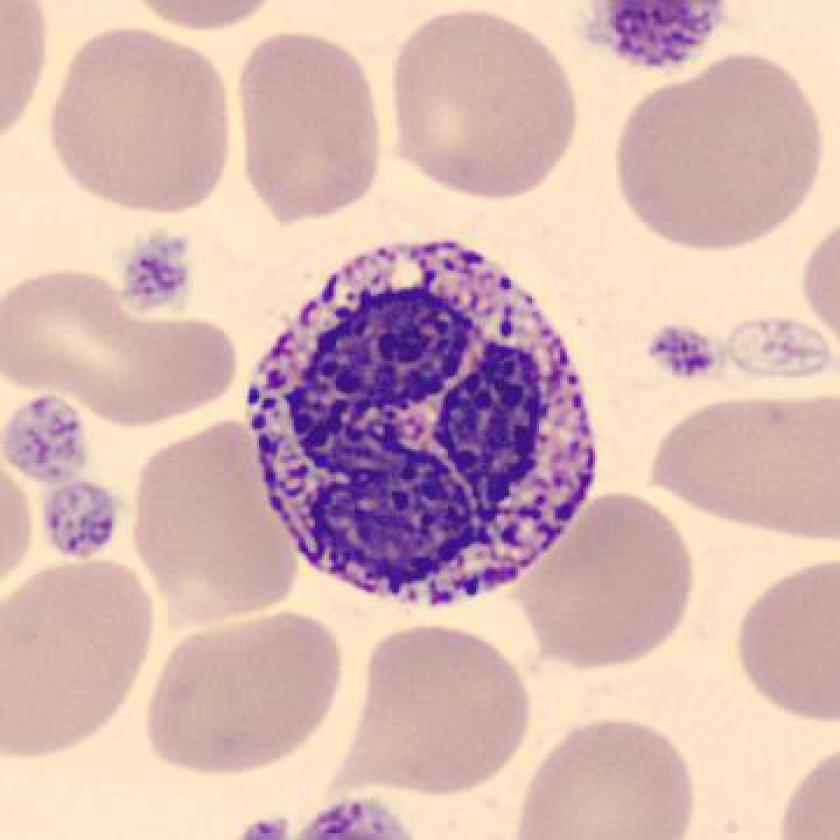basophil: (251, 244, 601, 607)
